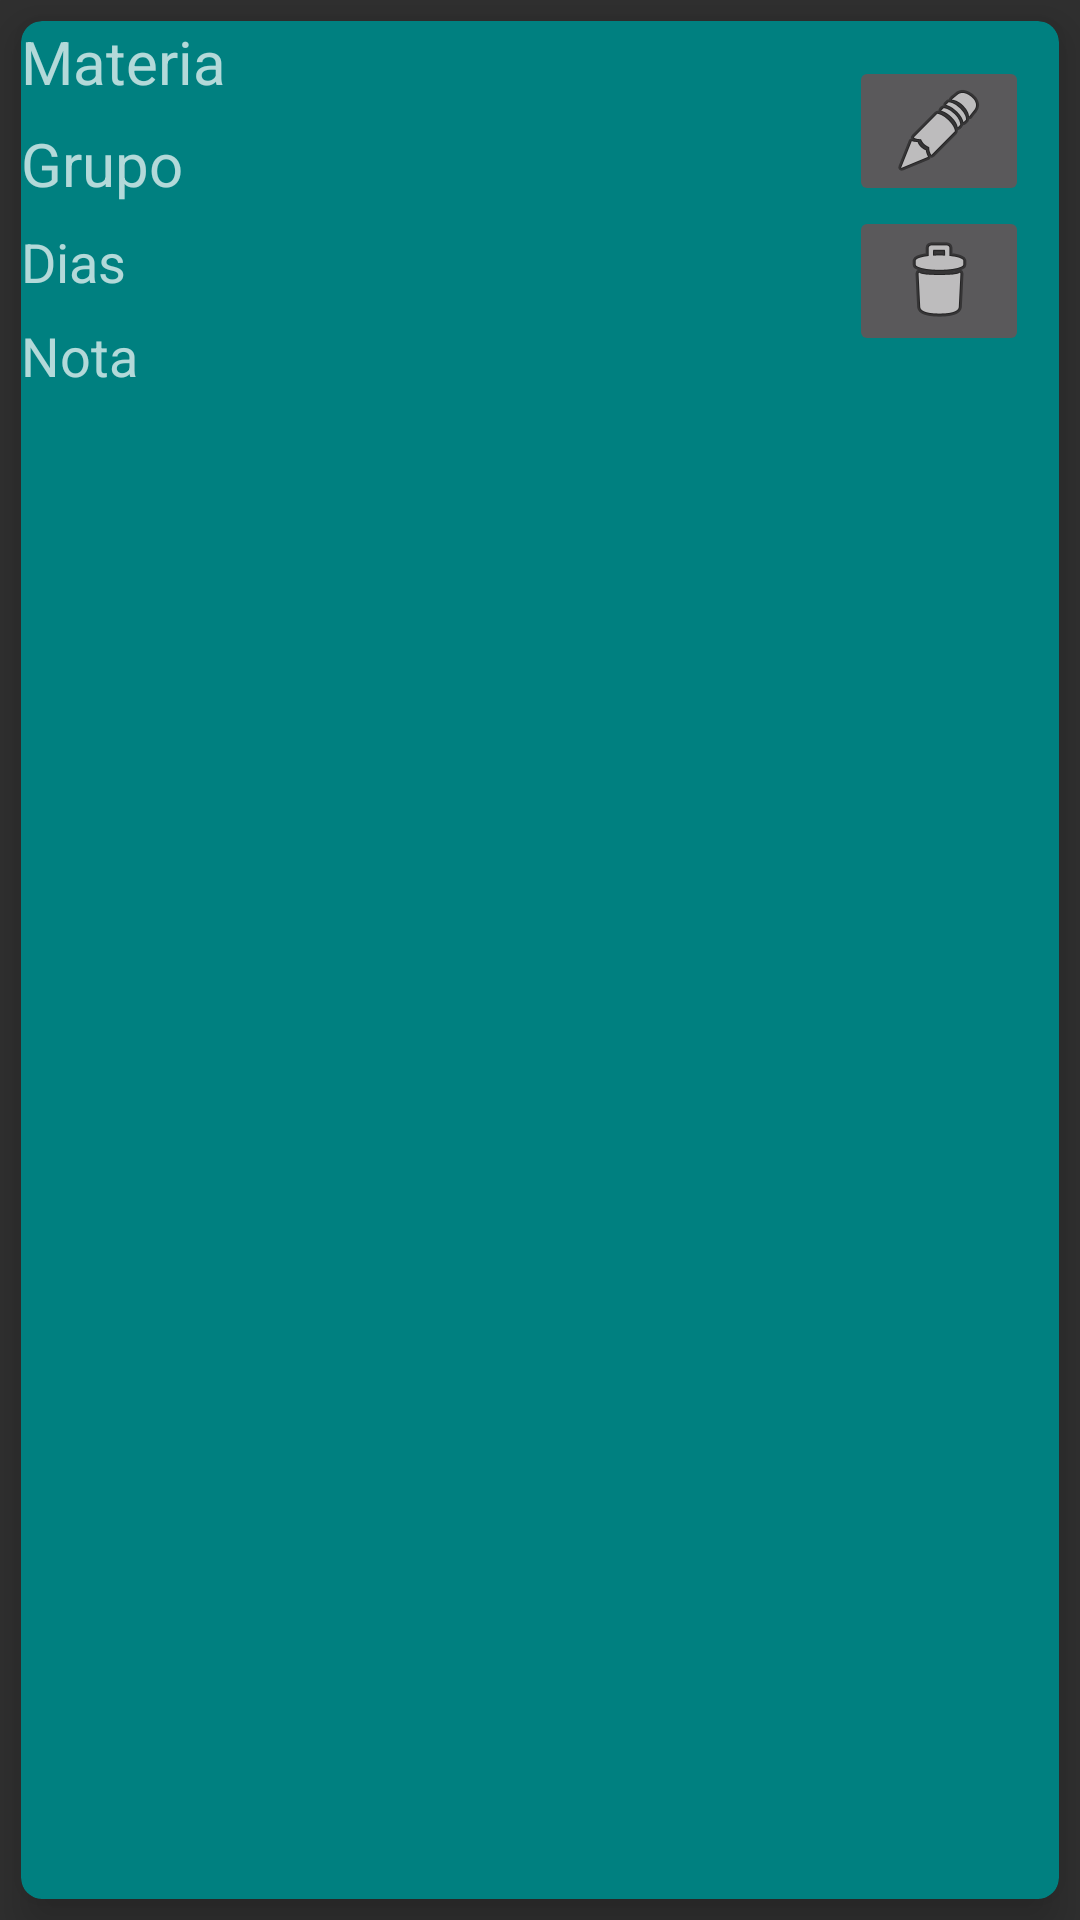

Named icons in this screenshot (1080px x 1920px) and their bounding boxes, (x1, y1, x2, y2):
delete: (861, 224, 1017, 338)
edit: (861, 74, 1017, 188)
